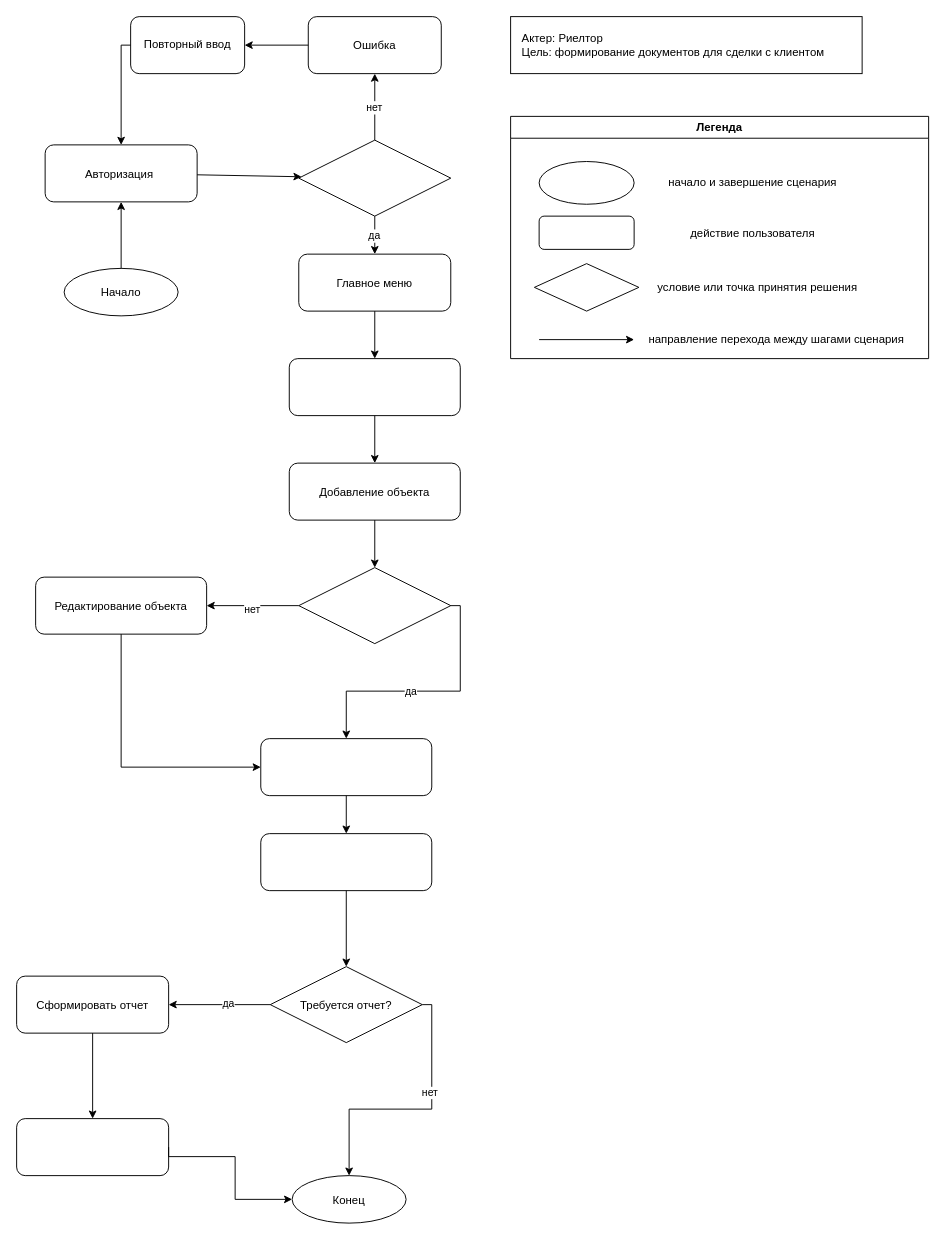
The diagram is 945 pixels wide and 1240 high, and some of its shapes have lost their labels. Each missing label, with the centre of its shape:
"Данные корректны?" belongs at pixel 374 177.
"Объект актуален?" belongs at pixel 374 605.
"Работа с объектами" belongs at pixel 374 387.
"Создание сделки" belongs at pixel 346 767.
"Формирование документов" belongs at pixel 346 862.
"Экспорт отчета" belongs at pixel 92 1147.
